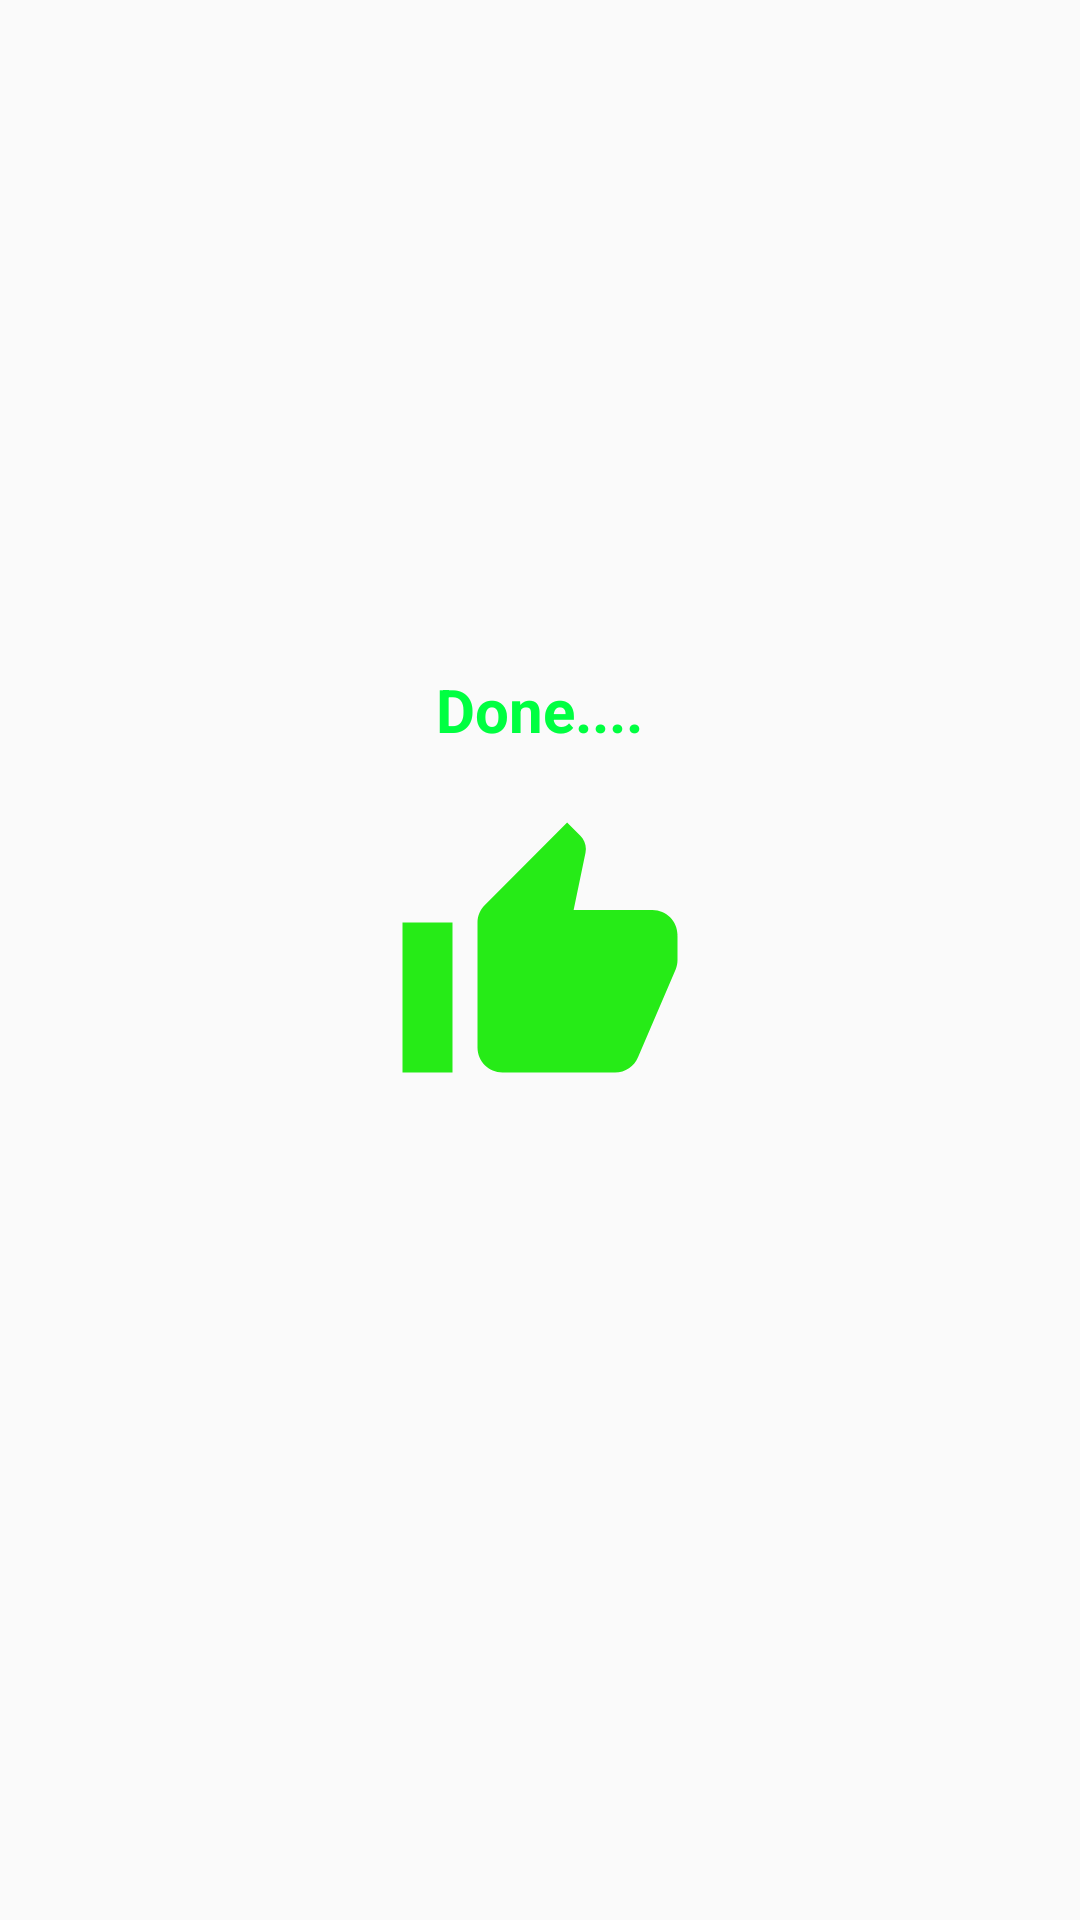

Screen size 1080px x 1920px. Icon name, then its center in pixels as [x,y]:
thumb up: [540,947]
